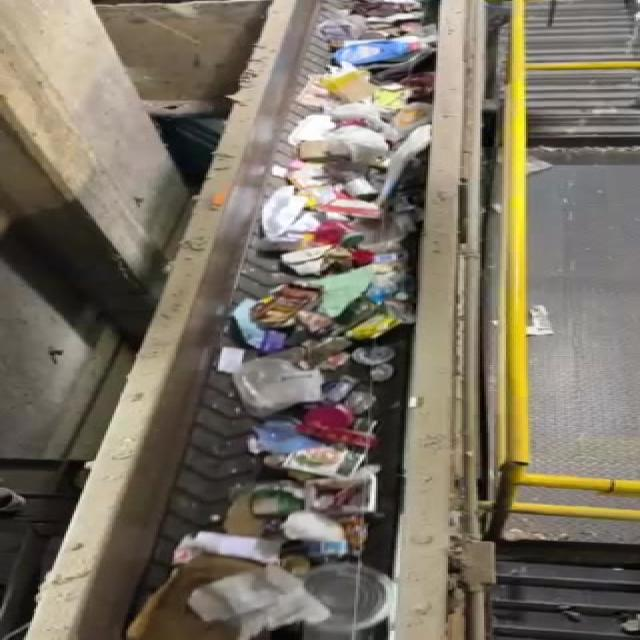paper: (150, 555, 276, 640), (206, 414, 392, 470)
pp: (288, 554, 403, 637), (296, 477, 382, 513)
